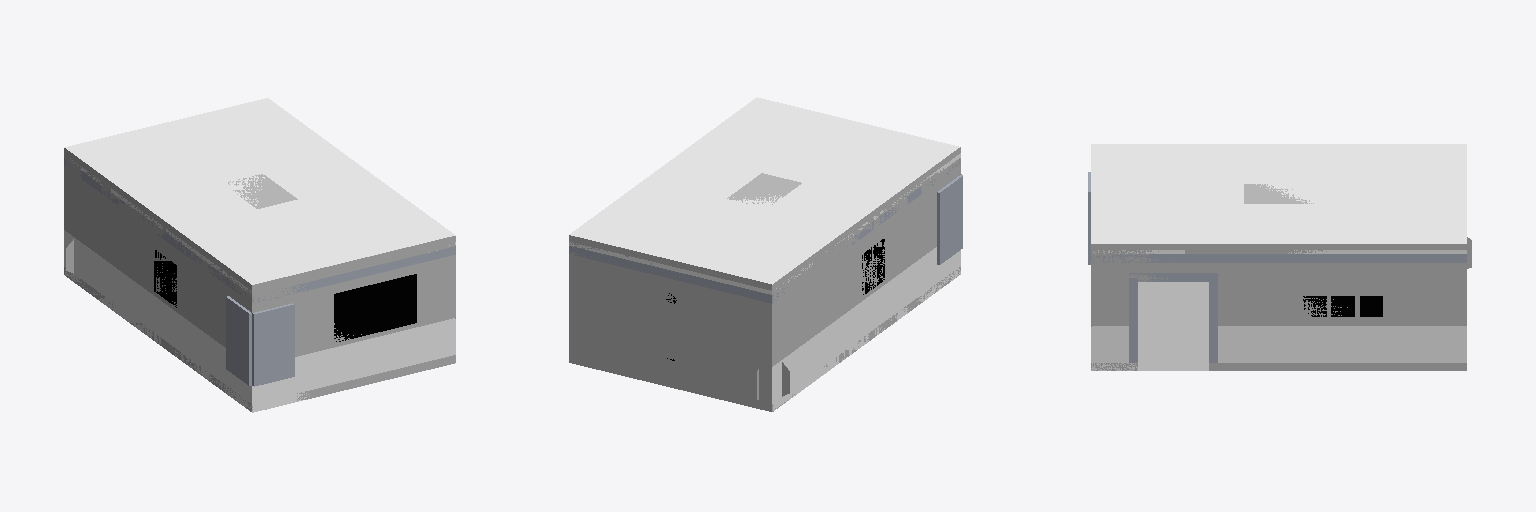
The model's file is Room.obj.
The picture shows the model from 3 angles: view 1: azimuth 30°, elevation 25°; view 2: azimuth 150°, elevation 25°; view 3: azimuth 270°, elevation 25°; orthographic projection.
Parts seen in each view (by area): view 1: Plafon_Plane.005, Wall.001_Plane.001, Wall_Plane.004, Picture_Cube.168, Window.001_Cube.099, Window.002_Cube.011, UpperPlafon_Cube.006, Cermin_Cube.089; view 2: Plafon_Plane.005, Wall.001_Plane.001, Wall.003_Plane.003, Misc.001_Cube.009, Misc_Cube.007, Window.002_Cube.011, UpperPlafon_Cube.006, Cube.001_Cube.079, Cermin_Cube.089; view 3: Plafon_Plane.005, Wall.002_Plane.002, Floor_Plane_Floor_Plane.001, UpperPlafon_Cube.006.
Part boxes in pixels (x1,y1,x2,y2): Plafon_Plane.005: (64,98,455,284); Wall.001_Plane.001: (64,148,251,411); Wall_Plane.004: (252,236,455,412); Picture_Cube.168: (334,274,416,341); Window.001_Cube.099: (252,303,294,386); Window.002_Cube.011: (226,296,251,385); UpperPlafon_Cube.006: (228,174,297,208); Cermin_Cube.089: (154,250,176,307); Plafon_Plane.005: (569,97,959,284); Wall.001_Plane.001: (772,147,960,410); Wall.003_Plane.003: (569,235,771,403); Misc.001_Cube.009: (595,261,615,365); Misc_Cube.007: (726,293,745,396); Window.002_Cube.011: (937,175,962,264); UpperPlafon_Cube.006: (727,173,801,204); Cube.001_Cube.079: (569,241,812,294); Cermin_Cube.089: (862,239,884,294); Plafon_Plane.005: (1091,144,1466,243); Wall.002_Plane.002: (1091,244,1466,370); Floor_Plane_Floor_Plane.001: (1138,282,1208,370); UpperPlafon_Cube.006: (1244,184,1313,203).
Bounding box in the file's own units: 5.19 × 3 × 8.17.